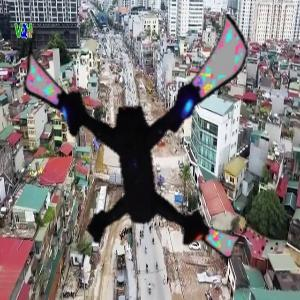drone: (6, 8, 261, 263)
